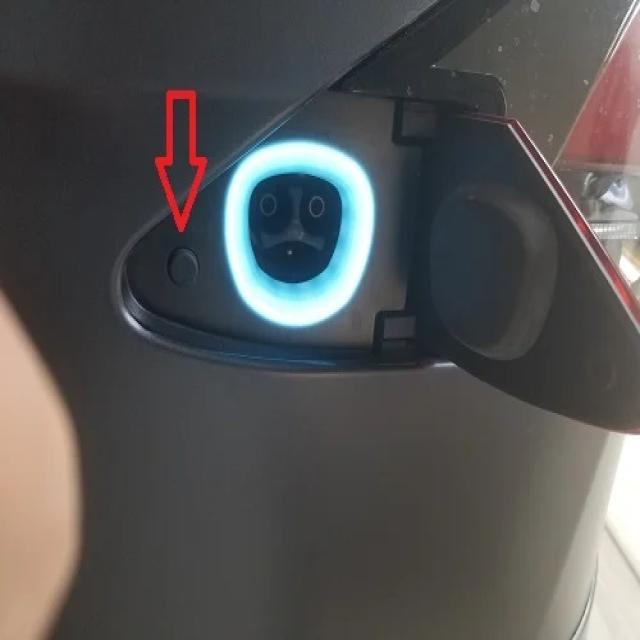Tesla Model-S-: (211, 115, 388, 404)
